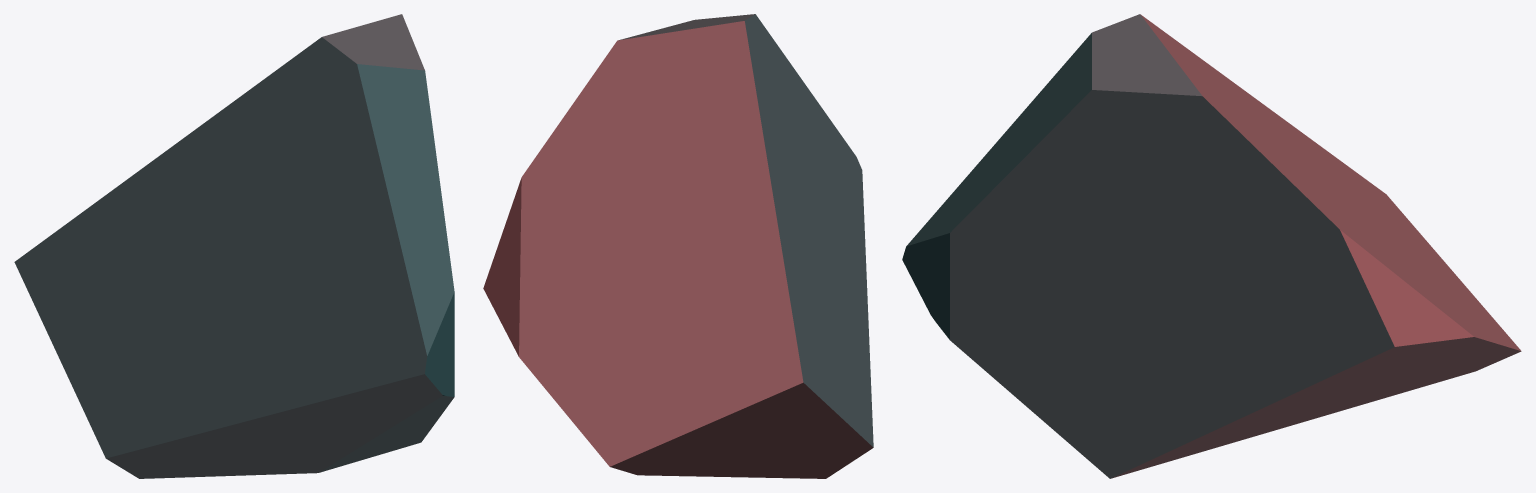
Rendered from gemstone_anim_10_5_11.glb.
3 views of the same model, side by side, from view 1: azimuth 30°, elevation 25°; view 2: azimuth 150°, elevation 25°; view 3: azimuth 270°, elevation 25° (orthographic). The views are drawn at different scales.
Visible parts, largest first — view 1: gemstone_anim_10_5_11; view 2: gemstone_anim_10_5_11; view 3: gemstone_anim_10_5_11.
Boxes of the visible parts, x1,y1,x2,y2 form: gemstone_anim_10_5_11: (14, 14, 454, 478); gemstone_anim_10_5_11: (483, 14, 873, 478); gemstone_anim_10_5_11: (902, 14, 1521, 478).
Size of the model in its own units: 1179 by 1416 by 1766.
